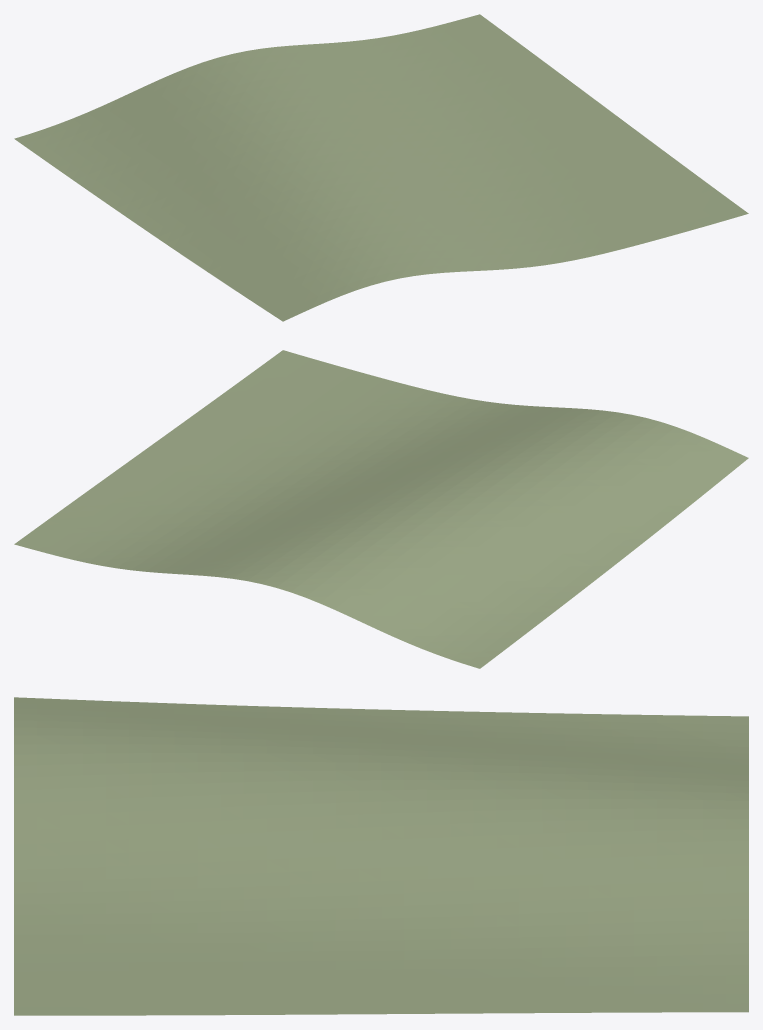
Rendered from desert-2-5.glb.
The picture shows the model from 3 angles, top to bottom: view 1: azimuth 30°, elevation 25°; view 2: azimuth 150°, elevation 25°; view 3: azimuth 270°, elevation 25°; orthographic projection. The views are drawn at different scales.
Visible parts, largest first — view 1: desert-2-5; view 2: desert-2-5; view 3: desert-2-5.
Boxes of the visible parts, x1,y1,x2,y2 form: desert-2-5: (14,14,748,321); desert-2-5: (14,350,748,668); desert-2-5: (14,697,748,1015).
Size of the model in its own units: 512 by 33.56 by 512.
